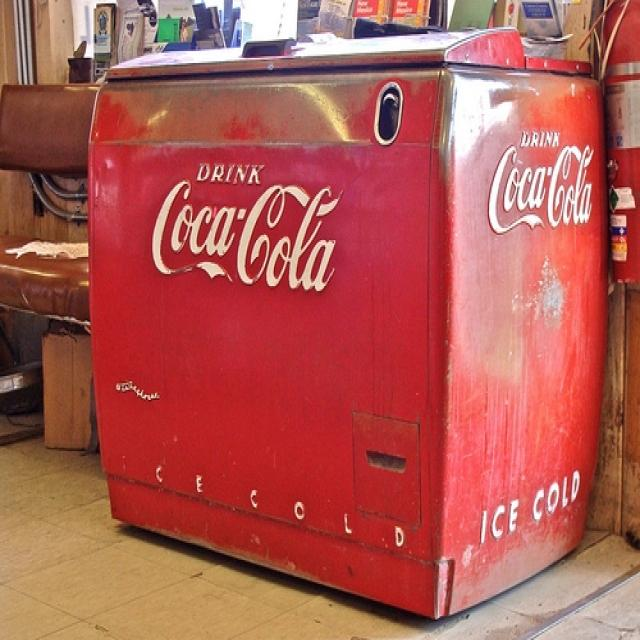cocacola: (147, 176, 355, 306), (481, 139, 603, 244)
